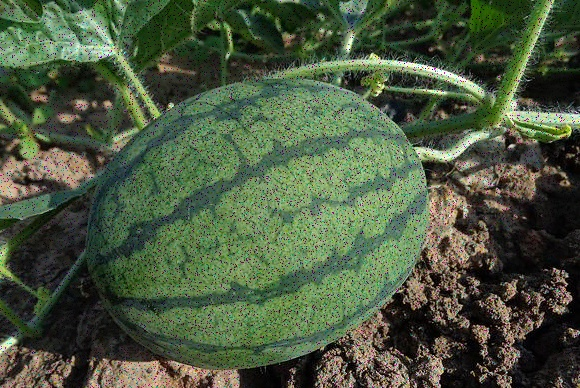watermelon: (86, 69, 426, 367)
